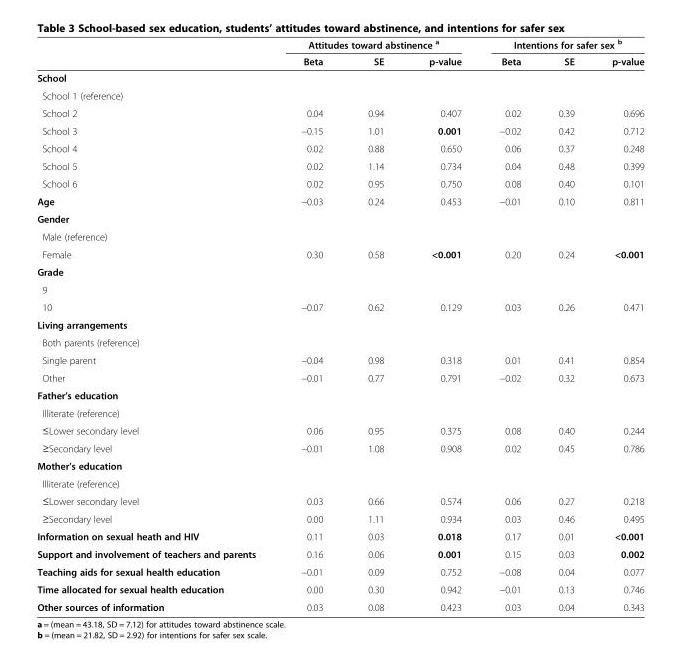table: (36, 37, 643, 612)
table column: (36, 37, 277, 612), (405, 37, 479, 612), (277, 37, 344, 612), (344, 37, 405, 612), (479, 37, 538, 612), (538, 37, 592, 612), (592, 37, 643, 612)
table column header: (36, 37, 643, 69)
table projected row header: (36, 86, 643, 104), (36, 209, 643, 227), (36, 227, 643, 245), (36, 262, 643, 280), (36, 315, 643, 333), (36, 386, 643, 404), (36, 456, 643, 474), (36, 69, 643, 86), (36, 280, 643, 297), (36, 333, 643, 350), (36, 404, 643, 421), (36, 474, 643, 491)
table row: (36, 86, 643, 104), (36, 121, 643, 139), (36, 139, 643, 157), (36, 174, 643, 192), (36, 209, 643, 227), (36, 227, 643, 245), (36, 262, 643, 280), (36, 297, 643, 315), (36, 315, 643, 333), (36, 350, 643, 368), (36, 368, 643, 386), (36, 386, 643, 404), (36, 421, 643, 439), (36, 456, 643, 474), (36, 491, 643, 509), (36, 509, 643, 527), (36, 544, 643, 562), (36, 562, 643, 580), (36, 52, 643, 69), (36, 69, 643, 86), (36, 104, 643, 121), (36, 157, 643, 174), (36, 192, 643, 209), (36, 245, 643, 262), (36, 280, 643, 297), (36, 333, 643, 350), (36, 404, 643, 421), (36, 439, 643, 456), (36, 474, 643, 491), (36, 527, 643, 544), (36, 580, 643, 597), (36, 37, 643, 52), (36, 597, 643, 612)
table spanning cell: (277, 37, 479, 52), (479, 37, 643, 52)
